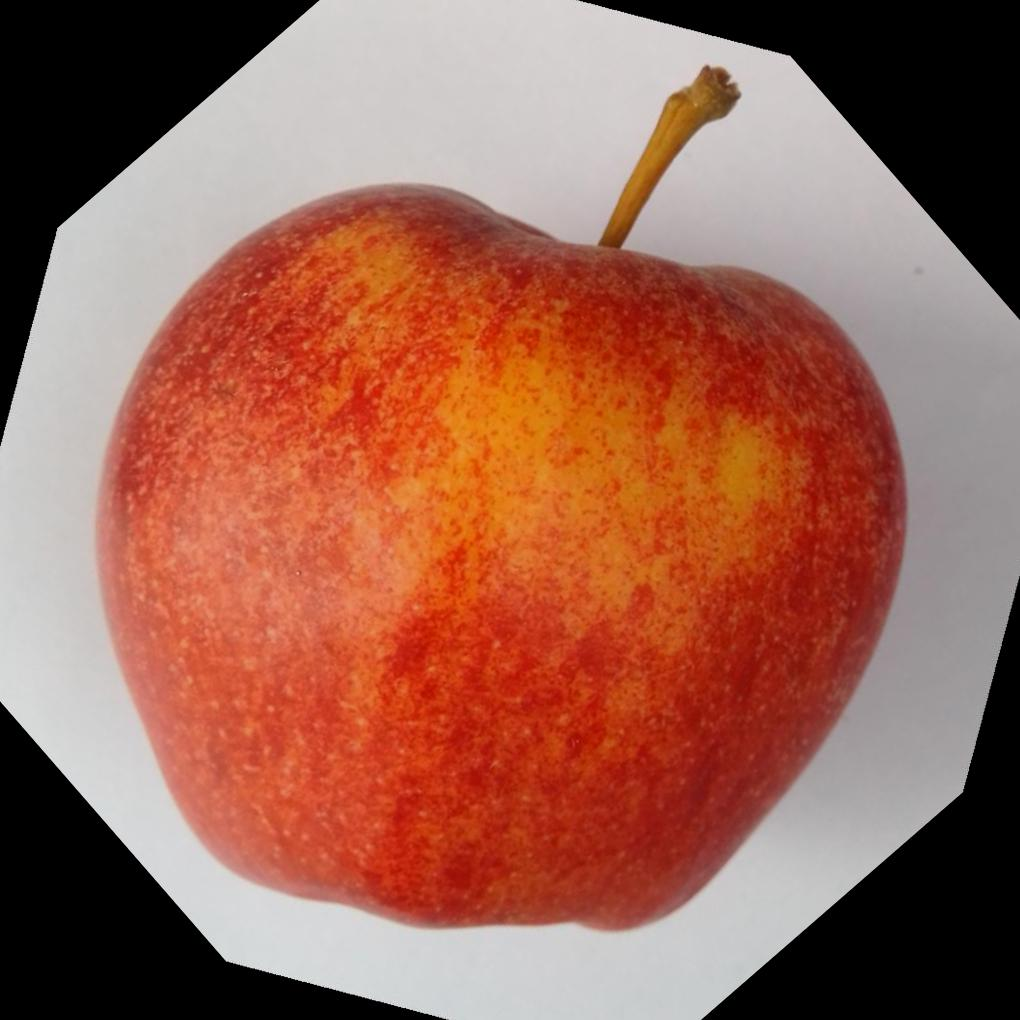FreshGuava: (92, 183, 910, 939)
